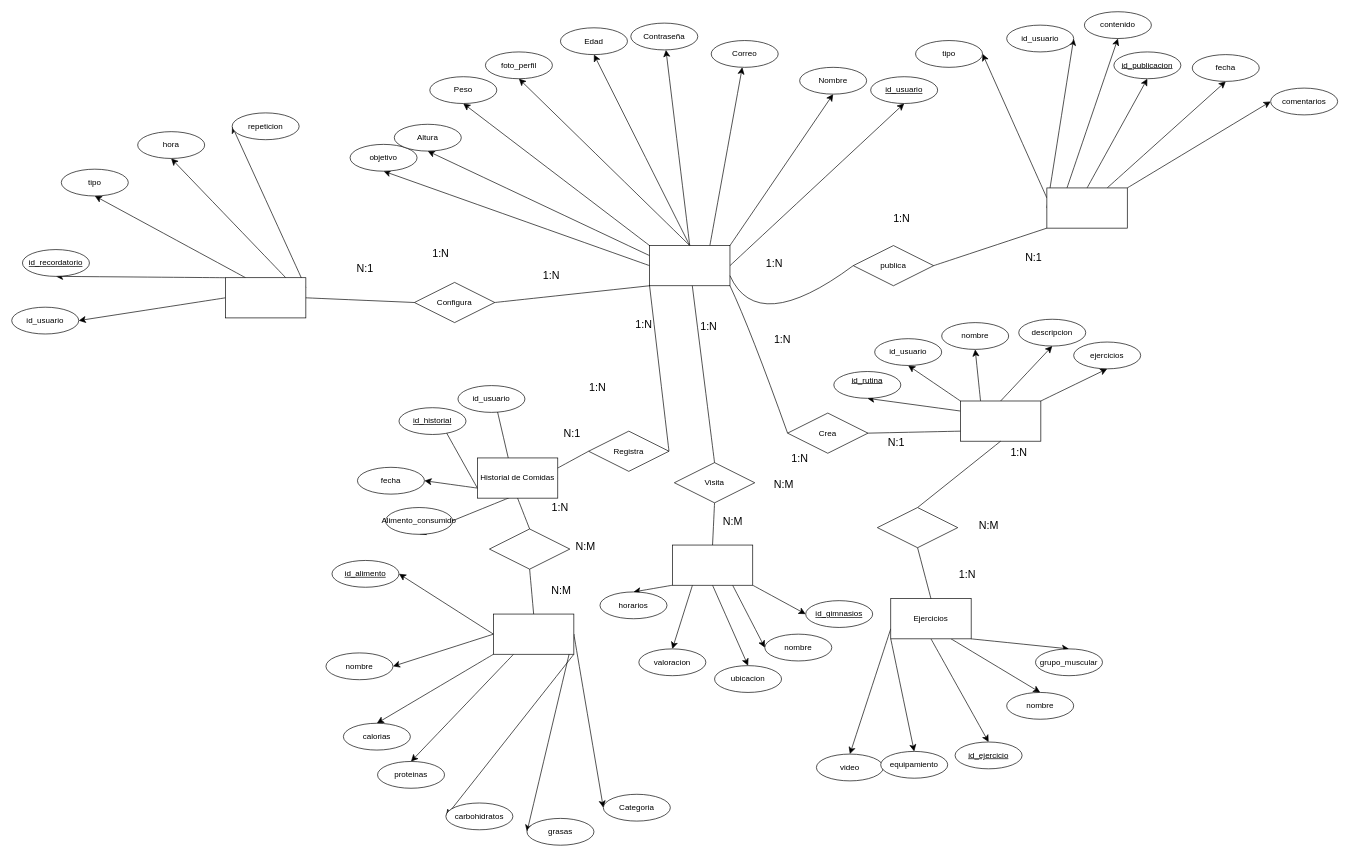
The diagram is 1349 pixels wide and 857 high, and some of its shapes have lost their labels. Each missing label, with the centre of its shape:
"Alimentos" belongs at point 533,633.
"Comunidad" belongs at point 1086,207.
"Contiene" belongs at point 529,548.
"Gimnasios" belongs at point 712,564.
"Recordatorios" belongs at point 265,297.
"Rutinas" belongs at point 1000,420.
"tienen" belongs at point 917,527.
"Usuarios" belongs at point 689,265.
